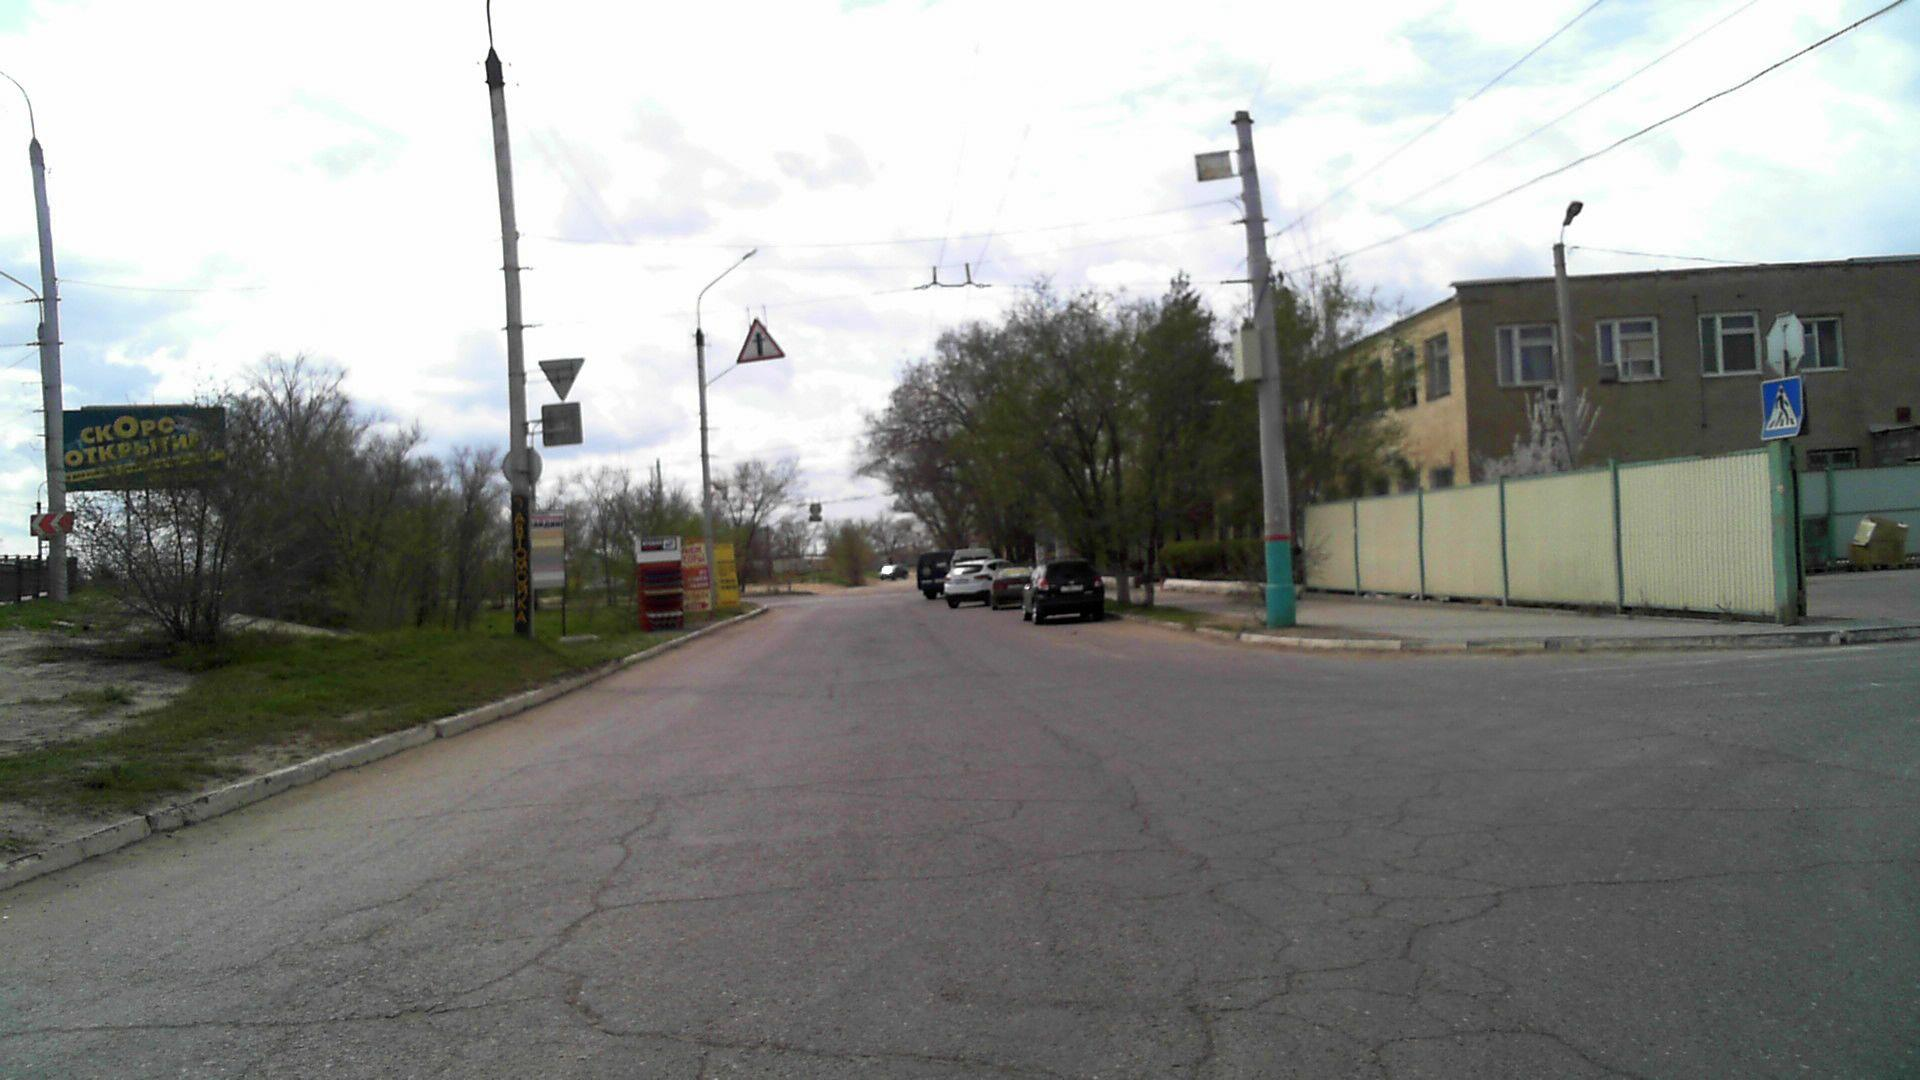1_34_2: (31, 513, 76, 536)
2_3_1: (735, 317, 785, 363)
5_19_2: (1761, 382, 1808, 439)
